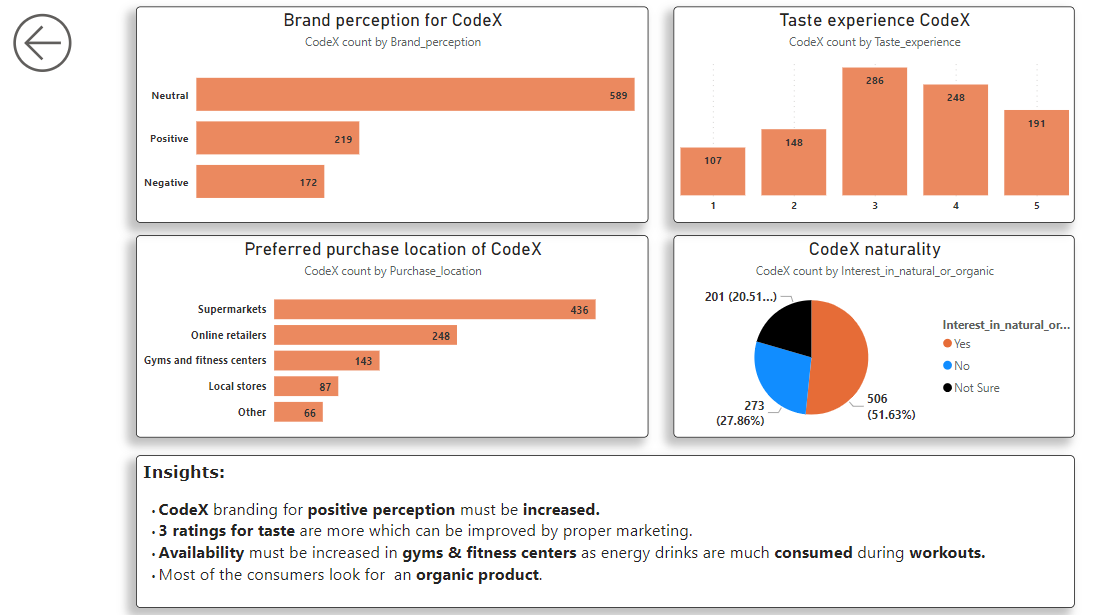

The page's visual inventory and layout, read from the dashboard file:
{"tool":"powerbi","page":{"name":"Product Development","canvas":[1280,720],"ordinal":5},"visuals":[{"type":"barChart","title":"Brand perception for CodeX ","fields":{"Y":["Measurestable.CodeX count"],"Category":["fact_survey_responses.Brand_perception"]},"box":[165.7,14.3,585.7,247.1],"z":0},{"type":"columnChart","title":"Taste experience CodeX ","fields":{"Category":["fact_survey_responses.Taste_experience"],"Y":["Measurestable.CodeX count"]},"box":[780,14.3,458.6,247.1],"z":1000},{"type":"barChart","title":"Preferred purchase location of CodeX","fields":{"Y":["Measurestable.CodeX count"],"Category":["fact_survey_responses.Purchase_location"]},"box":[165.7,275.7,585.7,231.4],"z":2000},{"type":"pieChart","title":"CodeX naturality","fields":{"Category":["fact_survey_responses.Interest_in_natural_or_organic"],"Y":["Measurestable.CodeX count"]},"box":[780,275.7,458.6,231.4],"z":3000},{"type":"textbox","box":[165.7,527.1,1072.9,174.3],"z":4000},{"type":"actionButton","box":[17.1,14.3,120,82.9],"z":5000}]}

Visuals, with their boxes in screenshot pixels (x1, y1, x2, y2), scaled from the page's 1280x720 canvas onto the 1095x615 screenshot:
"Brand perception for CodeX " barChart: detection(142, 12, 643, 223)
"Taste experience CodeX " columnChart: detection(667, 12, 1060, 223)
"Preferred purchase location of CodeX" barChart: detection(142, 235, 643, 433)
"CodeX naturality" pieChart: detection(667, 235, 1060, 433)
textbox: detection(142, 450, 1060, 599)
actionButton: detection(15, 12, 117, 83)
